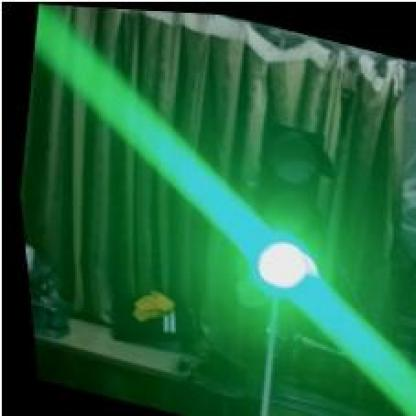green: (230, 117, 342, 301)
